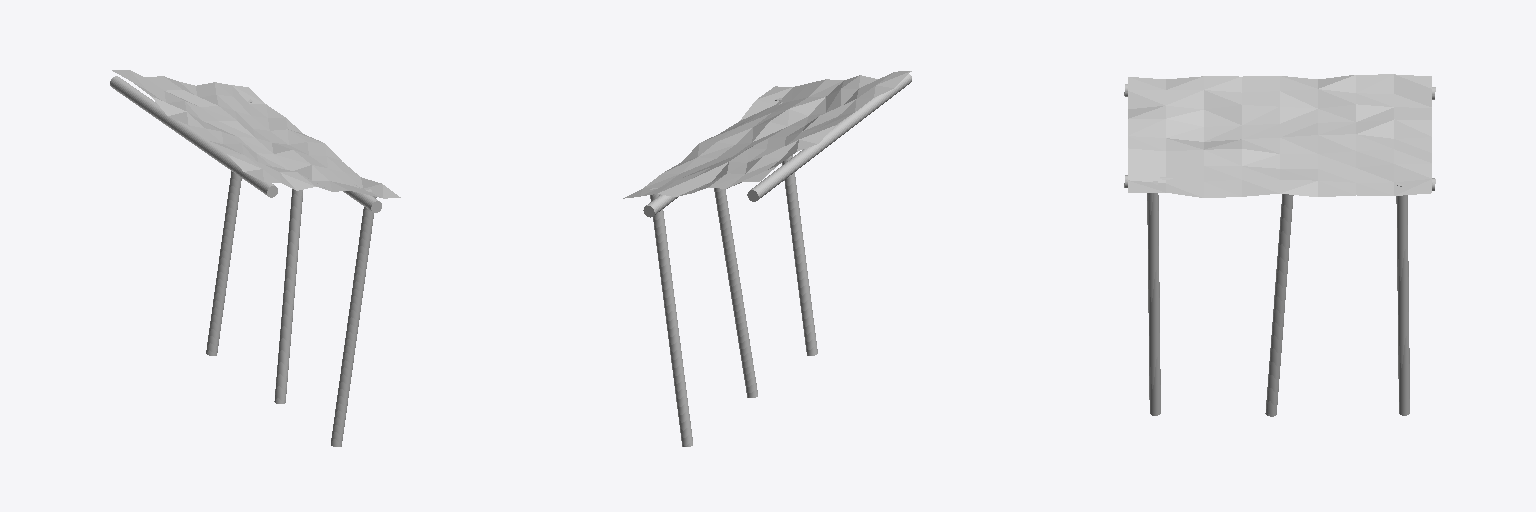
Rendered from rainProtectionConverted.obj.
The picture shows the model from 3 angles: view 1: azimuth 30°, elevation 25°; view 2: azimuth 150°, elevation 25°; view 3: azimuth 270°, elevation 25°; orthographic projection.
Bounding box in the file's own units: 0.5731 × 1.18 × 1.11.